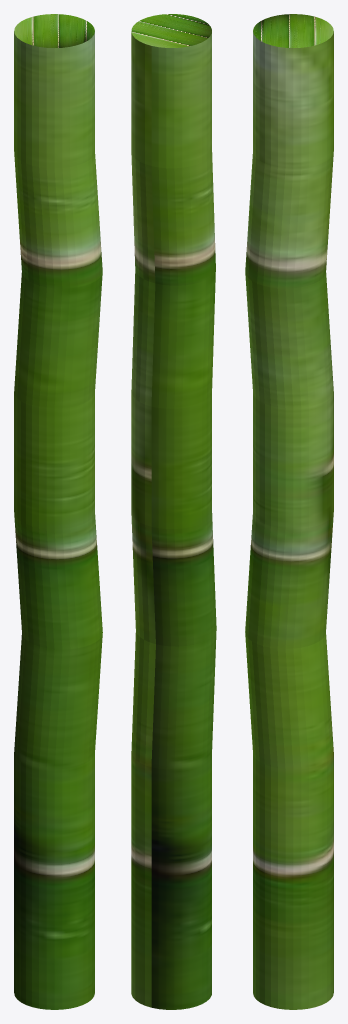
File: BAMBOOfbx.fbx
3 renders of one model, left to right at view 1: azimuth 90°, elevation 25°; view 2: azimuth 150°, elevation 25°; view 3: azimuth 270°, elevation 25°, orthographic.
Parts seen in each view (by area): view 1: Cylinder; view 2: Cylinder; view 3: Cylinder.
Part boxes in pixels (<box>): Cylinder: <box>14,14,102,1009</box>; Cylinder: <box>131,14,216,1009</box>; Cylinder: <box>245,14,333,1009</box>.
Size of the model in its own units: 42.88 by 558 by 46.67.
